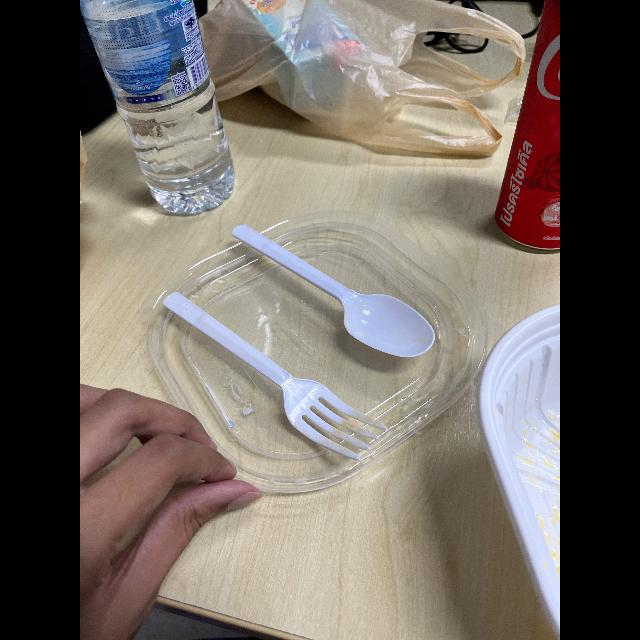plastic_cultery: (150, 291, 396, 465), (224, 219, 442, 357)
